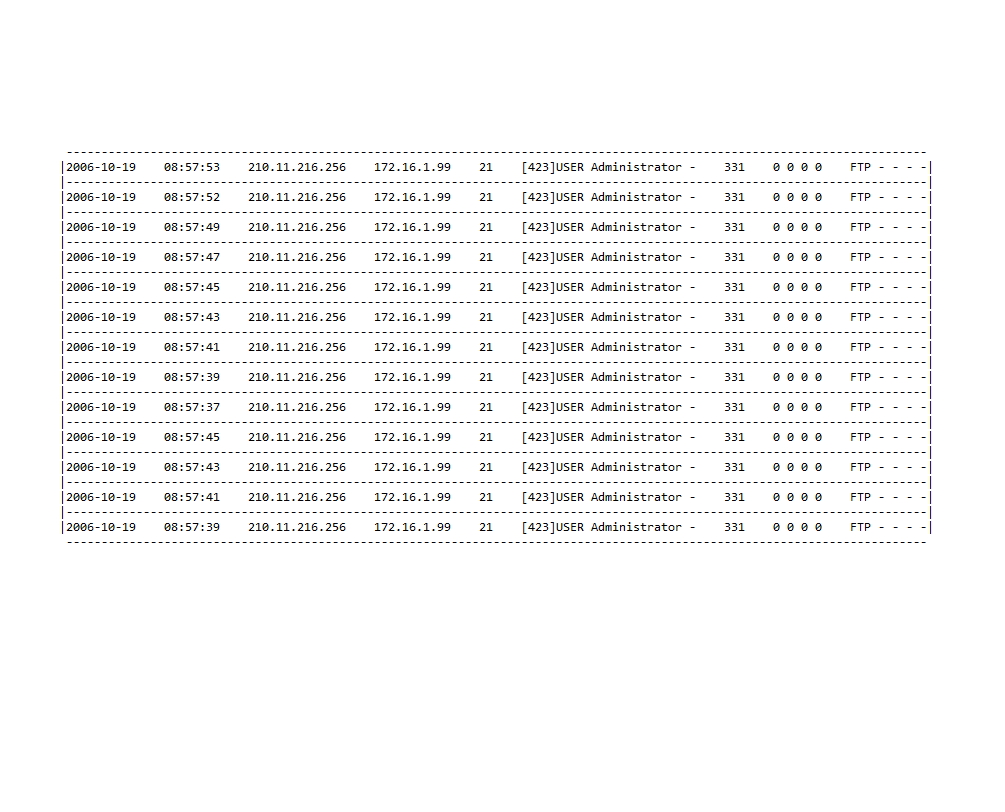table: (55, 147, 936, 546)
